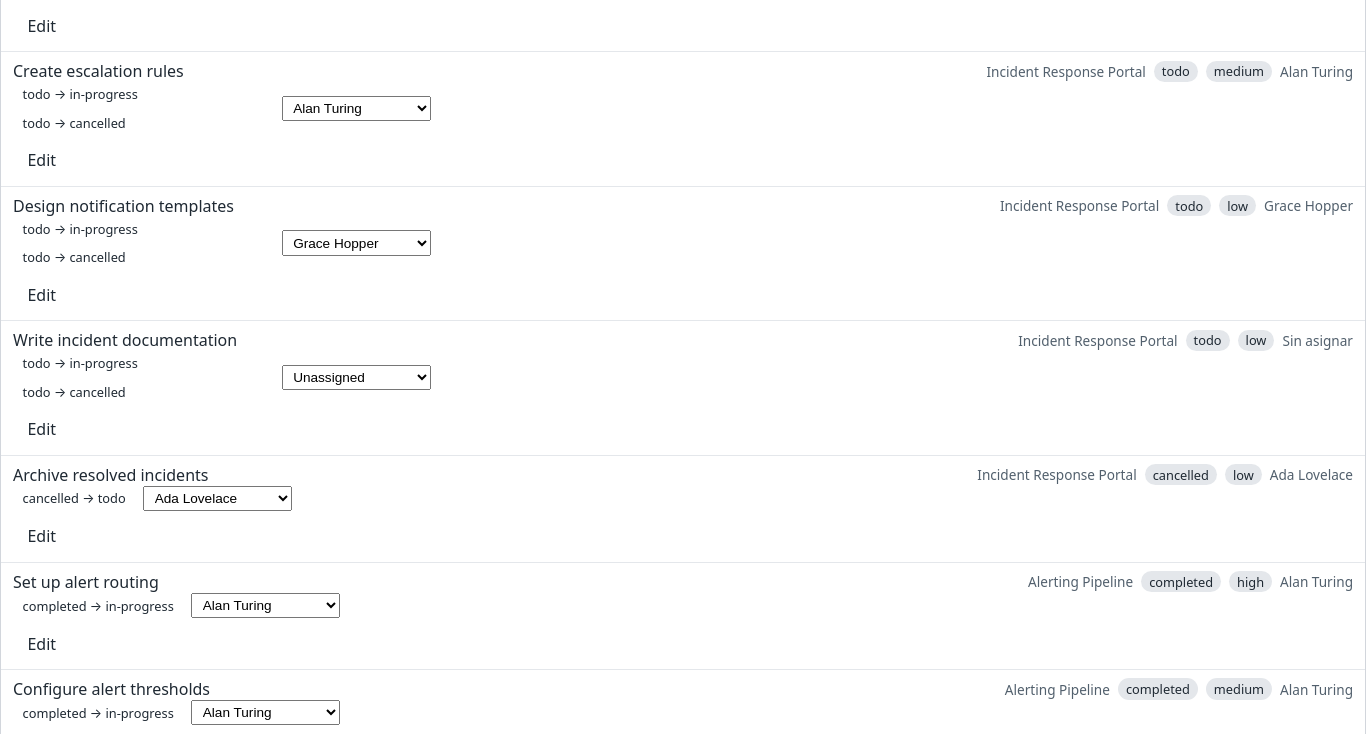
it: TasksPage — assignment (TSK-ASSIGN) › assigns and unassigns a task from the row selector (TSK-ASSIGN-1/2)
The width and height of the screenshot is (1366, 734).
(page scrolled)
Select "Grace Hopper" in the dropdown named "Assignee for Write incident documentation" at (356, 378), box [282, 365, 430, 390]
(page scrolled)
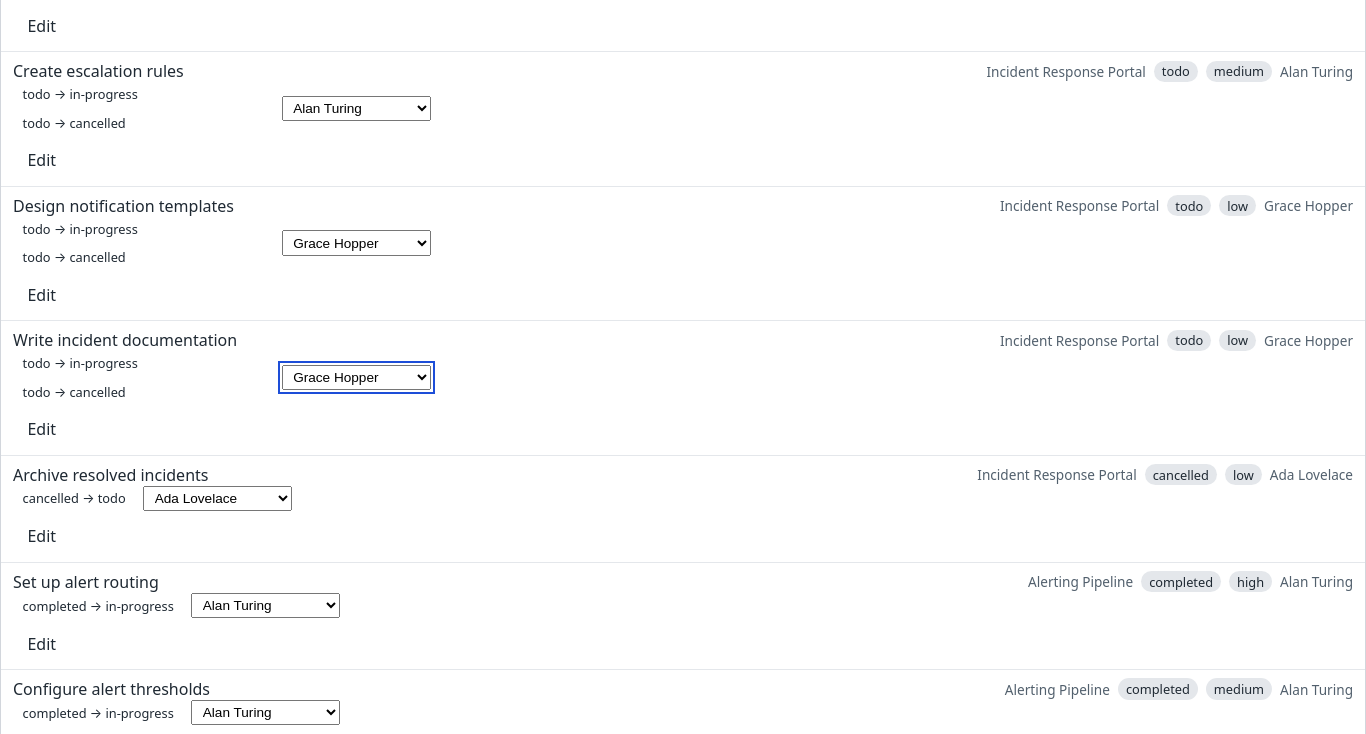
Expected: the text "Grace Hopper" in the row of "Write incident documentation" is shown, [1264, 331, 1353, 350]
Select "Unassigned" in the dropdown named "Assignee for Write incident documentation" at (356, 378), box [282, 365, 430, 390]
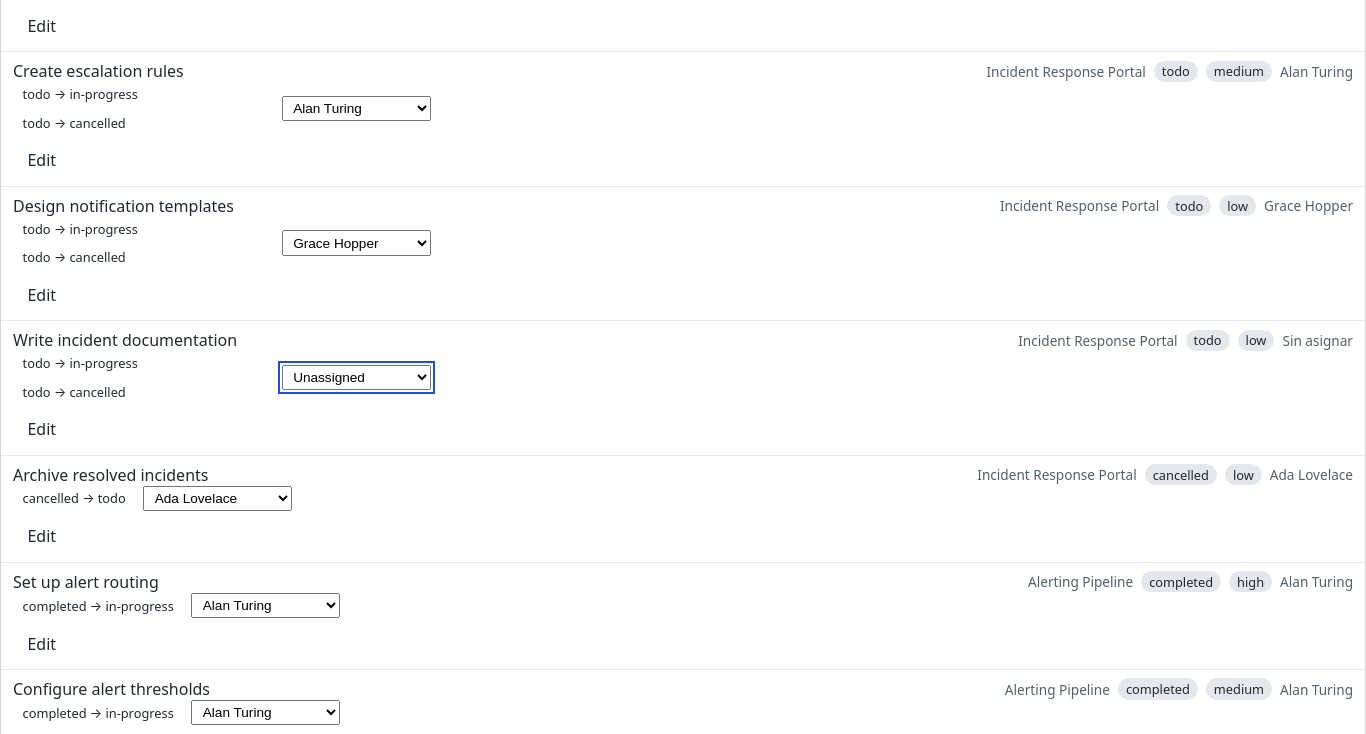
Expected: the text "Sin asignar" is shown, [1282, 331, 1353, 350]
